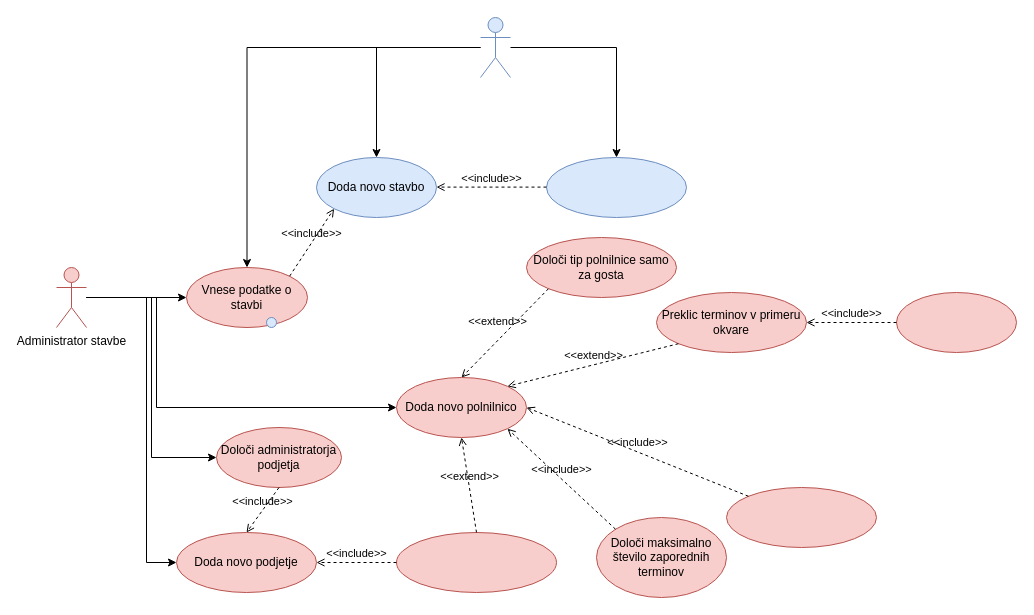
Some shapes in this 1034 by 615 pixel diagram are drawn without their labels. The shapes that lost their labels are listed below. From the top down, each one's centre as x and y in pixels, then its label:
(x=495, y=47): Glavni administrator
(x=616, y=187): Določi administratorja stavbe
(x=956, y=322): Pošiljanje obvestila
(x=801, y=517): Določi maksimalno število ur polnjenja
(x=476, y=562): Polnilnico dodeli podjetju
